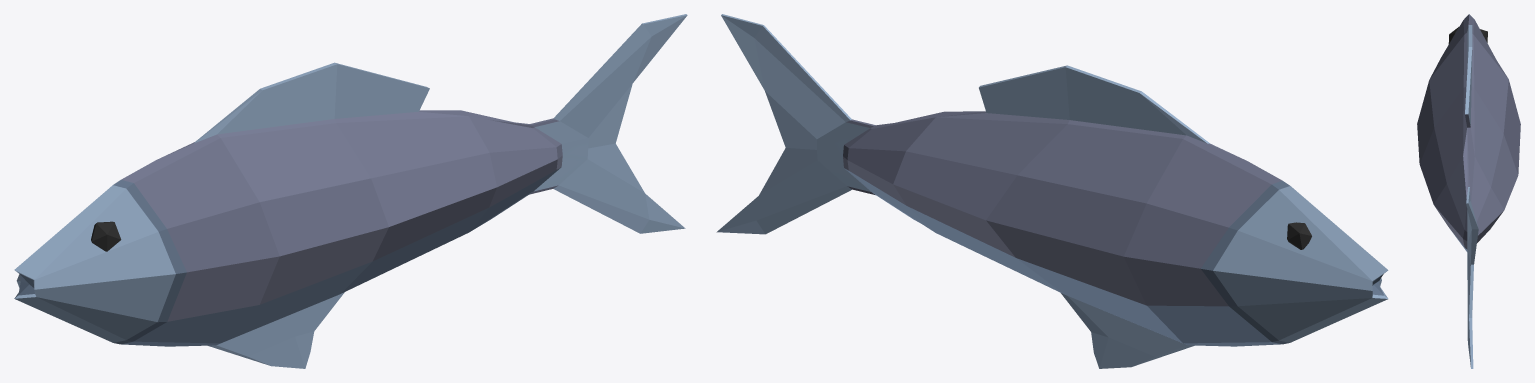
File: Fish_01.fbx
The picture shows the model from 3 angles, left to right: view 1: azimuth 30°, elevation 25°; view 2: azimuth 150°, elevation 25°; view 3: azimuth 270°, elevation 25°; orthographic projection. The views are drawn at different scales.
Visible parts, largest first — view 1: Fish_01; view 2: Fish_01; view 3: Fish_01.
Boxes of the visible parts, bbox=[...] form: Fish_01: bbox=[14, 14, 687, 368]; Fish_01: bbox=[716, 14, 1388, 368]; Fish_01: bbox=[1417, 14, 1520, 368].
Size of the model in its own units: 37.33 by 15.72 by 6.53.
